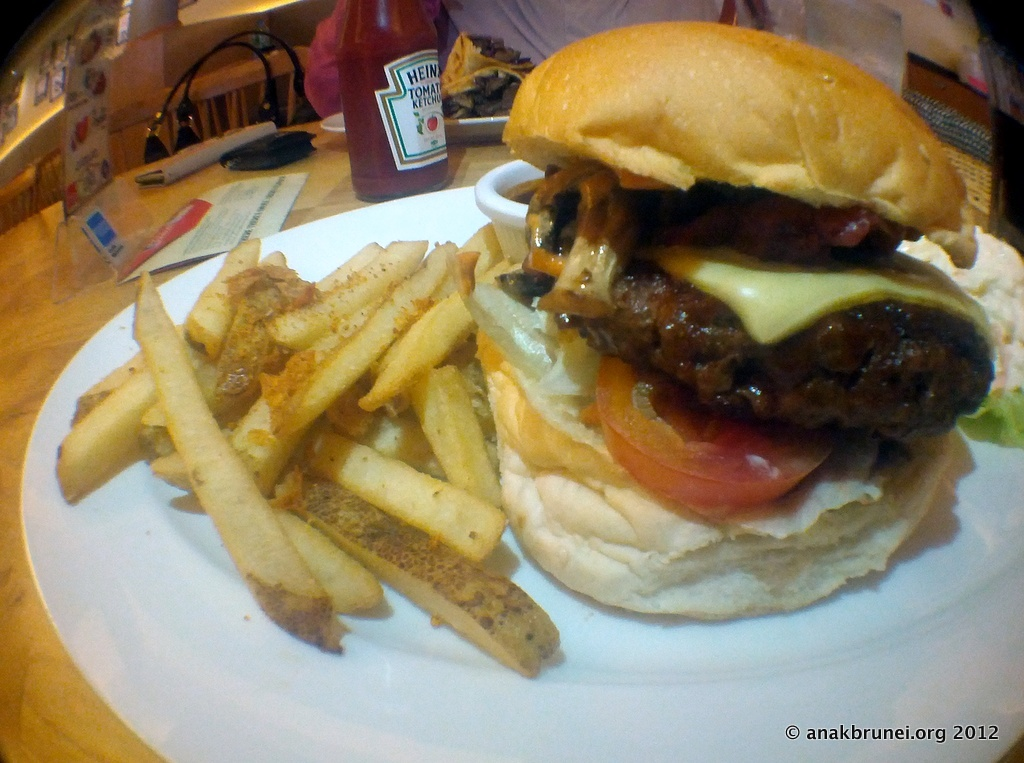French fries: (67, 189, 568, 639)
